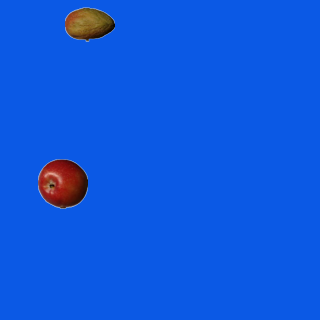Apple Braeburn: (37, 158, 87, 208)
Papaya: (64, 0, 114, 49)
